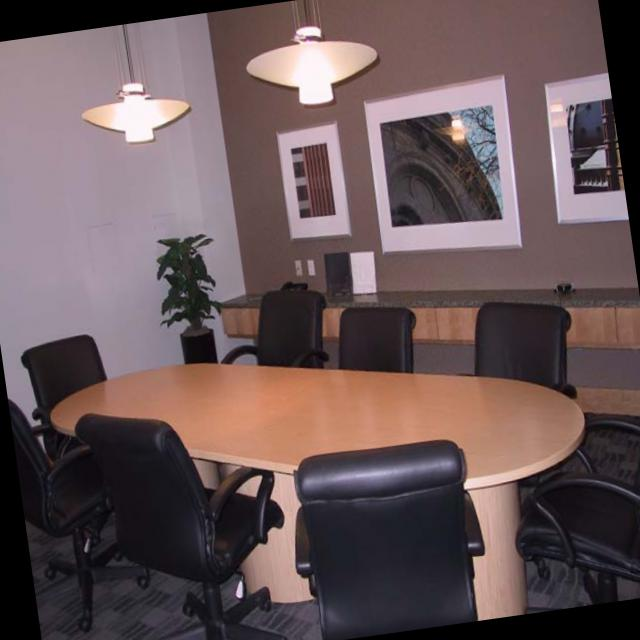book case: (323, 250, 352, 298), (350, 250, 378, 295)
ceiling vent: (243, 0, 381, 107), (80, 29, 193, 147)
chair -occluded-: (73, 409, 290, 640), (292, 437, 486, 639), (12, 404, 151, 635), (512, 417, 640, 604), (473, 300, 580, 401), (23, 332, 107, 459), (222, 289, 331, 364), (340, 307, 416, 367)
light switch: (292, 258, 306, 278), (307, 257, 318, 278)
picture crop: (361, 72, 523, 255), (543, 70, 625, 224), (275, 120, 354, 244)
plant -x: (150, 229, 224, 356)
shelf crop: (222, 287, 640, 351)
table -X: (51, 362, 583, 620)
wall clock: (0, 0, 640, 437)
